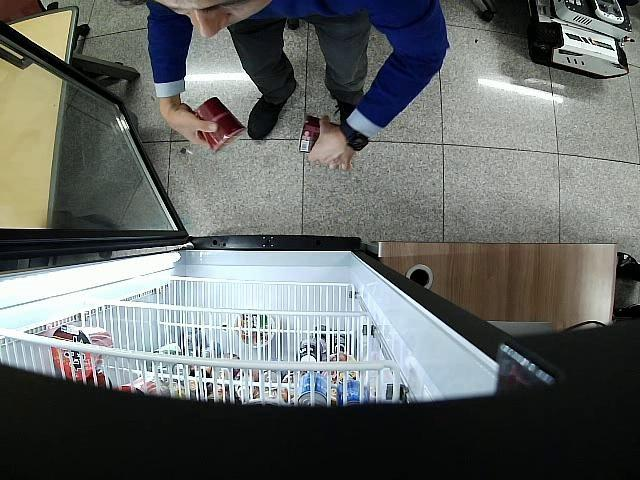06_nuguri_S: (193, 96, 246, 154), (298, 114, 342, 154)
